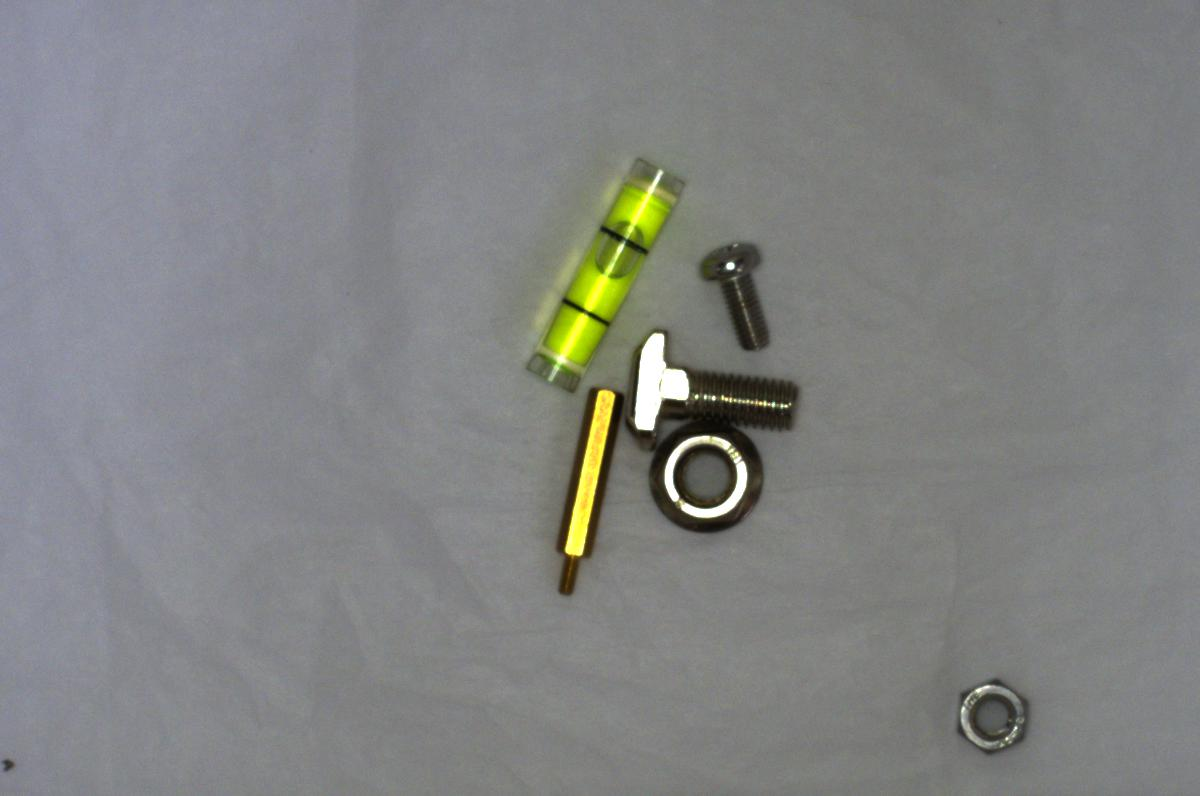Flange nut: (639, 419, 771, 542)
Hexagon nut: (947, 673, 1047, 759)
Hexagon pillar: (538, 376, 617, 588)
Horizontal bubble: (520, 154, 681, 390)
Round head screw: (699, 227, 778, 355)
T-shaped screw: (617, 328, 800, 440)
